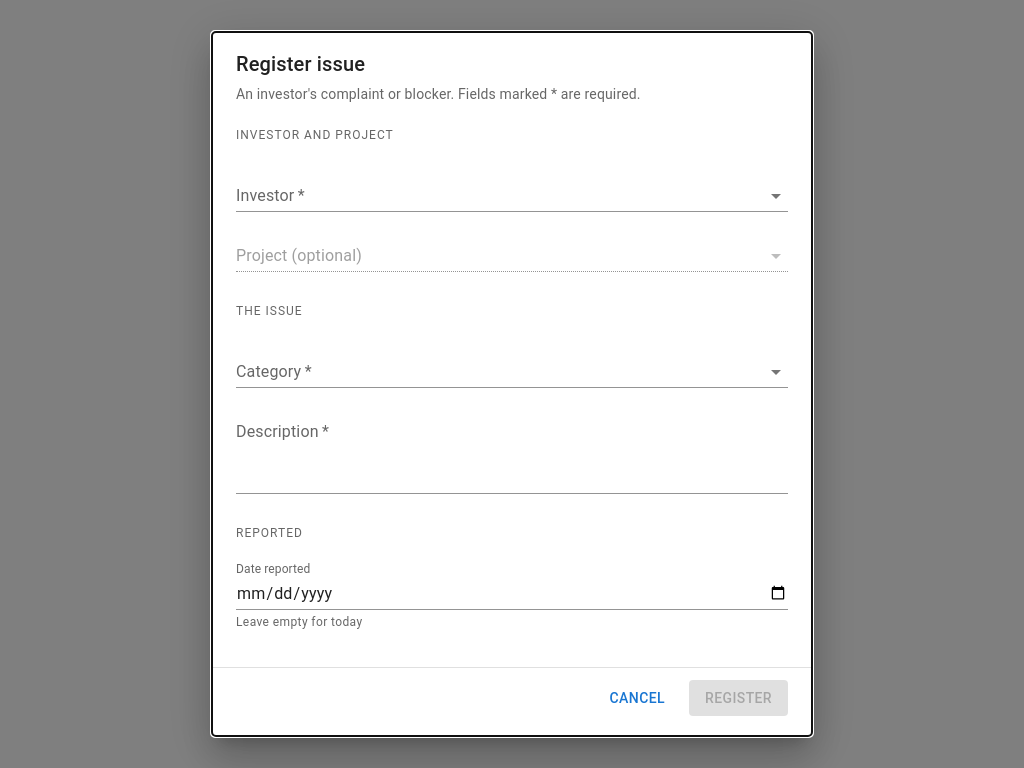
Test: IssueForm › Staff sees only investors assigned to them (id or populated user)
Click the 1st dropdown named "investor". click: click(512, 196)
box: [236,180,788,212]
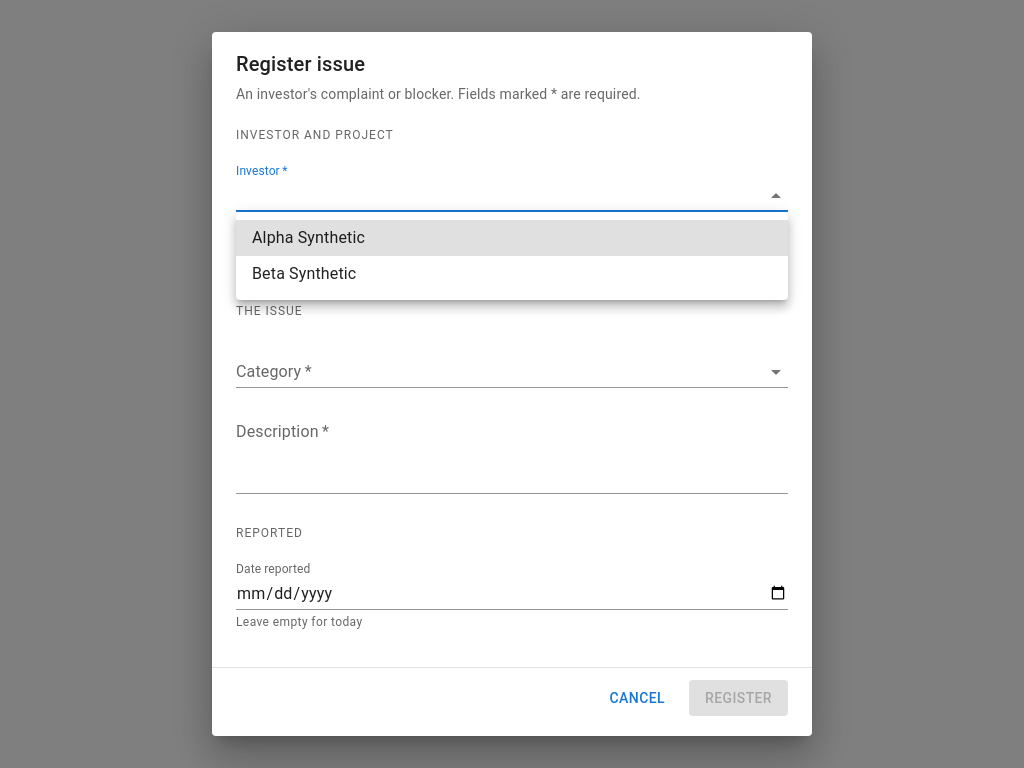
Result: the options read "Alpha Synthetic", "Beta Synthetic", in this order at [236,220,788,256]; [252,264,356,283]
